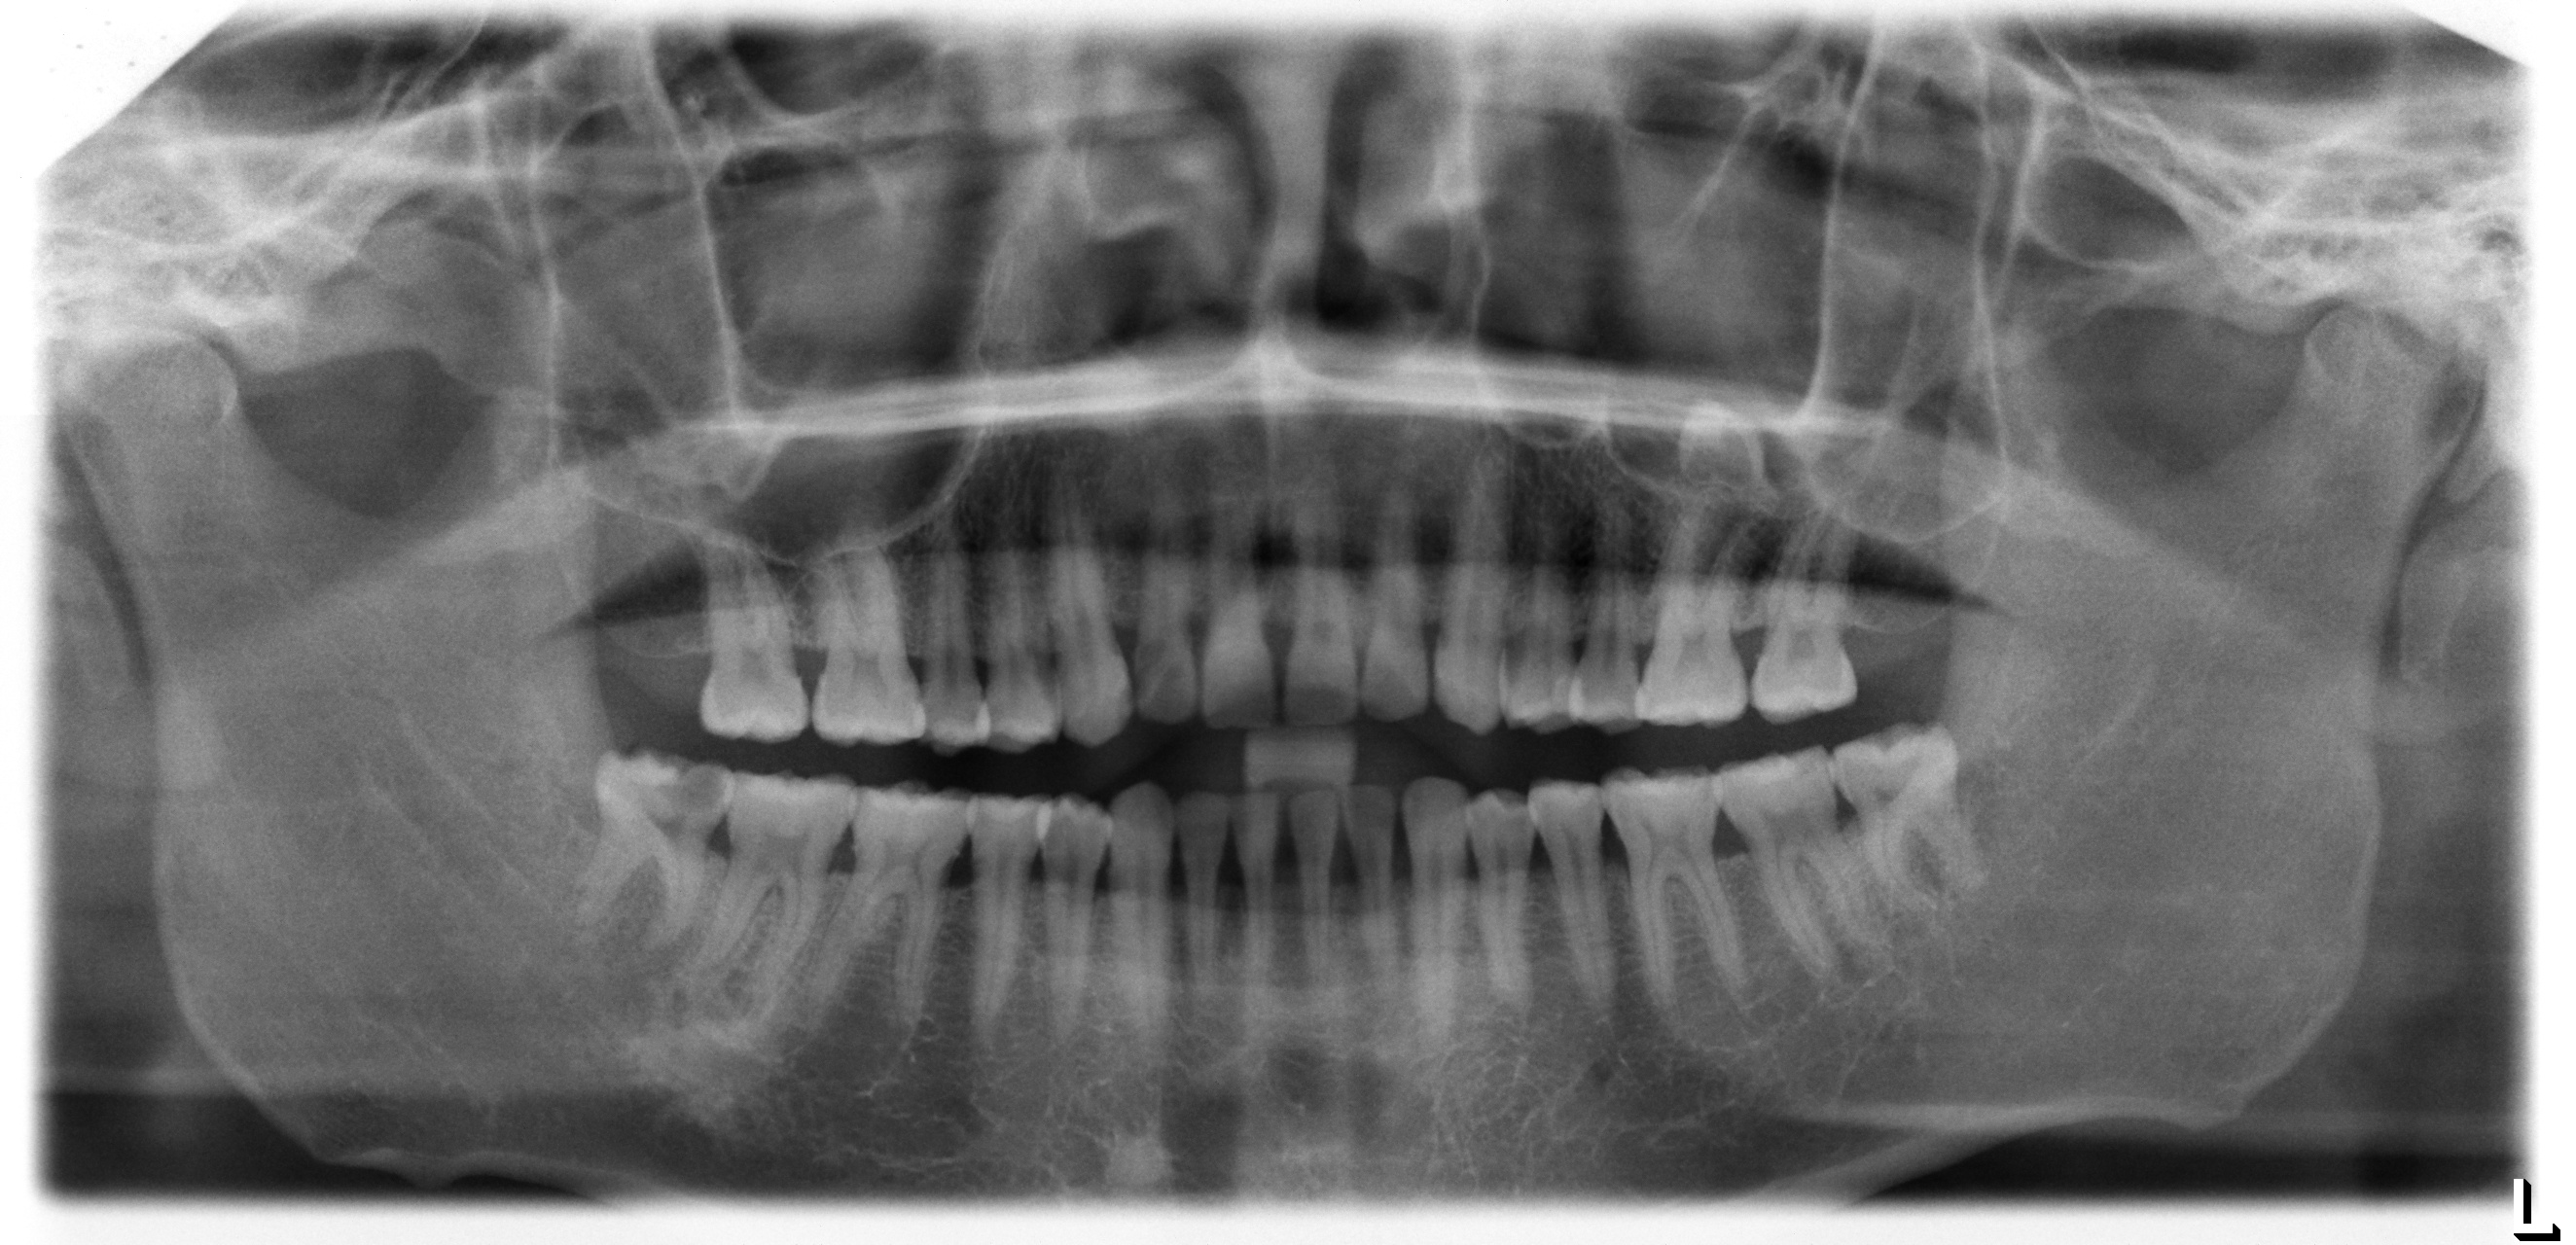Decay: (649, 746, 736, 833)
